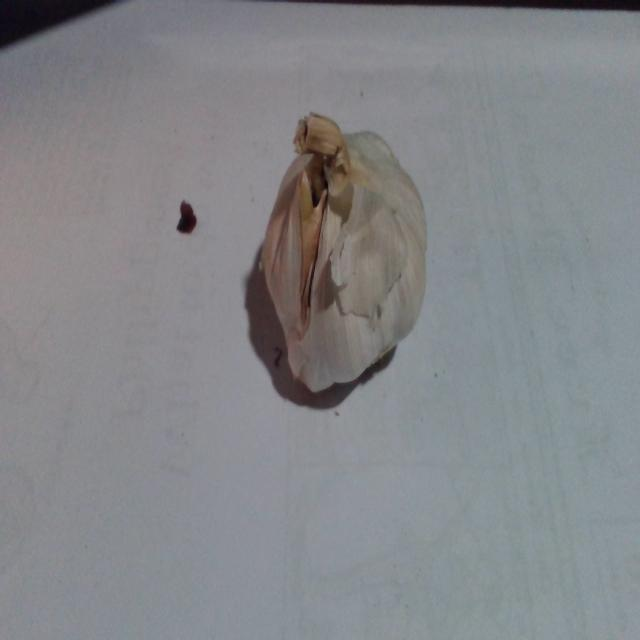garlic: (267, 123, 429, 417)
